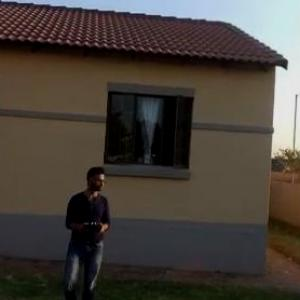follow: (62, 168, 123, 299)
